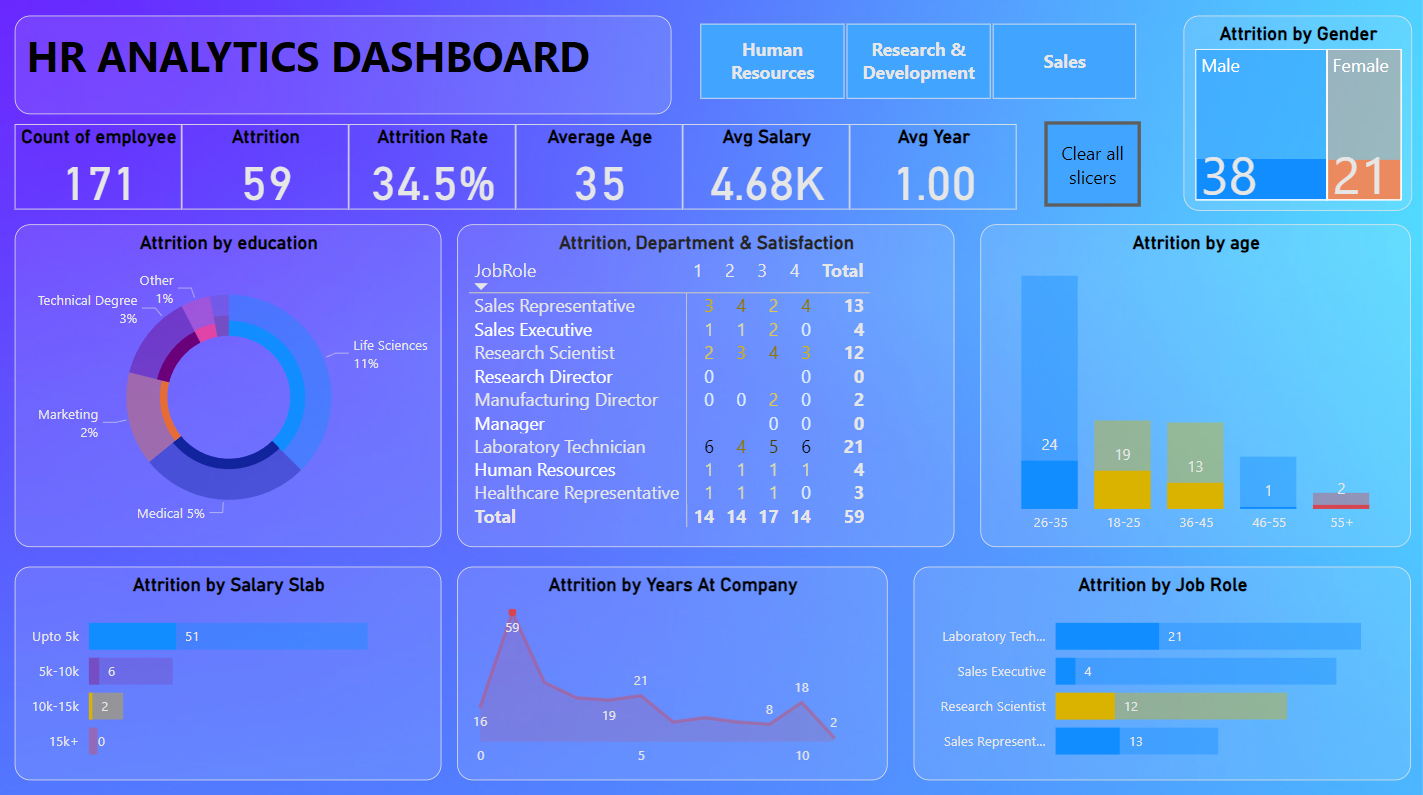

The dashboard page shown, as its layout file describes it:
{"tool":"powerbi","page":{"name":"Attrition Report","canvas":[1280,720],"ordinal":0},"visuals":[{"type":"card","title":"Count of employee","fields":{"Values":["Count(HR_Analytics.EmpID)"]},"box":[15,115,150,76.7],"z":0},{"type":"card","title":"Attrition","fields":{"Values":["Sum(HR_Analytics.AttritionCount)"]},"box":[165,115,150,76.7],"z":1000},{"type":"card","title":"Attrition Rate","fields":{"Values":["HR_Analytics.AttritionRate"]},"box":[315,115,150,76.7],"z":2000},{"type":"card","title":"Average Age","fields":{"Values":["Avg(HR_Analytics.Age)"]},"box":[465,115,150,76.7],"z":3000},{"type":"card","title":"Avg Salary ","fields":{"Values":["Avg(HR_Analytics.MonthlyIncome)"]},"box":[615,115,150,76.7],"z":4000},{"type":"card","title":"Avg Year","fields":{"Values":["Avg(HR_Analytics.YearsAtCompany)"]},"box":[765,115,150,76.7],"z":5000},{"type":"donutChart","title":"Attrition by education","fields":{"Category":["HR_Analytics.EducationField"],"Y":["Sum(HR_Analytics.AttritionCount)"]},"box":[15,205,383.3,290],"z":6000},{"type":"columnChart","title":"Attrition by age","fields":{"Category":["HR_Analytics.AgeGroup"],"Y":["Sum(HR_Analytics.AttritionCount)"]},"box":[883.3,205,386.7,290],"z":7000},{"type":"pivotTable","title":"Attrition, Department & Satisfaction","fields":{"Rows":["HR_Analytics.JobRole"],"Columns":["HR_Analytics.JobSatisfaction"],"Values":["Sum(HR_Analytics.AttritionCount)"]},"box":[411.7,205,446.7,290],"z":8000},{"type":"barChart","title":"Attrition by Salary Slab","fields":{"Category":["HR_Analytics.SalarySlab"],"Y":["Sum(HR_Analytics.AttritionCount)"]},"box":[15,513.3,383.3,191.7],"z":9000},{"type":"barChart","title":"Attrition by Job Role","fields":{"Category":["HR_Analytics.JobRole"],"Y":["Sum(HR_Analytics.AttritionCount)"]},"box":[823.3,513.3,446.7,191.7],"z":10000},{"type":"areaChart","title":"Attrition by Years At Company","fields":{"Category":["HR_Analytics.YearsAtCompany"],"Y":["Sum(HR_Analytics.AttritionCount)"]},"box":[411.7,513.3,386.7,191.7],"z":11000},{"type":"treemap","title":"Attrition by Gender","fields":{"Group":["HR_Analytics.Gender"],"Values":["Sum(HR_Analytics.AttritionCount)"]},"box":[1065,16.7,205,175],"z":12000},{"type":"slicer","fields":{"Values":["HR_Analytics.Department"]},"box":[605,16.7,441.7,81.7],"z":13000},{"type":"textbox","box":[15,16.7,590,88.3],"z":14000},{"type":"actionButton","box":[940,113.3,86.7,76.7],"z":15000}]}

Visuals, with their boxes in screenshot pixels (x1, y1, x2, y2), scaled from the page's 1280x720 canvas onto the 1423x795 screenshot:
"Count of employee" card: BBox(17, 127, 183, 212)
"Attrition" card: BBox(183, 127, 350, 212)
"Attrition Rate" card: BBox(350, 127, 517, 212)
"Average Age" card: BBox(517, 127, 684, 212)
"Avg Salary " card: BBox(684, 127, 850, 212)
"Avg Year" card: BBox(850, 127, 1017, 212)
"Attrition by education" donutChart: BBox(17, 226, 443, 547)
"Attrition by age" columnChart: BBox(982, 226, 1412, 547)
"Attrition, Department & Satisfaction" pivotTable: BBox(458, 226, 954, 547)
"Attrition by Salary Slab" barChart: BBox(17, 567, 443, 778)
"Attrition by Job Role" barChart: BBox(915, 567, 1412, 778)
"Attrition by Years At Company" areaChart: BBox(458, 567, 888, 778)
"Attrition by Gender" treemap: BBox(1184, 18, 1412, 212)
slicer - HR_Analytics.Department: BBox(673, 18, 1164, 109)
textbox: BBox(17, 18, 673, 116)
actionButton: BBox(1045, 125, 1141, 210)
